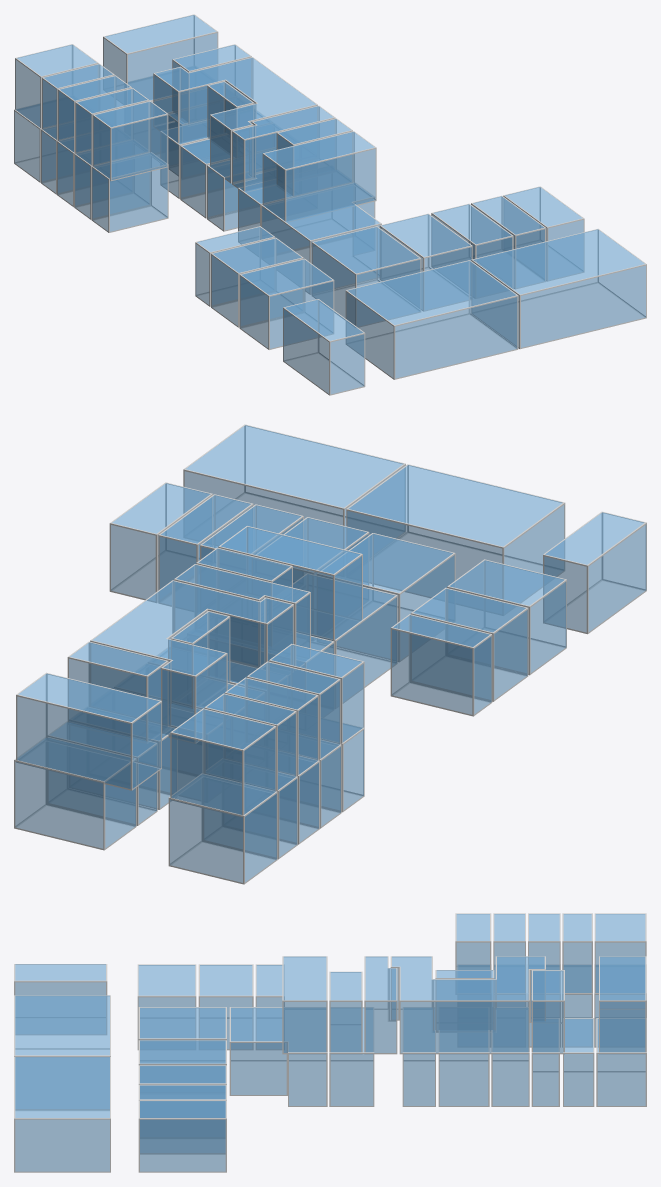
The model's file is Hospital_Selection_Boxes_wth_contour.glb.
3 renders of one model, top to bottom at view 1: azimuth 30°, elevation 25°; view 2: azimuth 150°, elevation 25°; view 3: azimuth 270°, elevation 25°, orthographic. The views are drawn at different scales.
Parts seen in each view (by area): view 1: Room_1, Room_Registry, Room_30, Room_10, Room_8, Room_33, Room_6, Room_28, Room_7, Room_Pharmacy, Room_5, Room_22 (+23 smaller); view 2: Room_Registry, Room_30, Room_1, Room_28, Room_17, Room_7, Room_18, Room_Pharmacy, Room_8, Room_6, Room_27, Room_33 (+22 smaller); view 3: Room_30, Room_1, Room_Registry, Room_10, Room_Pharmacy, Room_2, Room_3, Room_8, Room_28, Room_33, Room_17, Room_11 (+23 smaller).
Boxes of the visible parts, x1,y1,x2,y2 form: Room_1: [471, 228, 646, 349]; Room_Registry: [345, 260, 518, 379]; Room_30: [153, 57, 317, 183]; Room_10: [261, 182, 381, 294]; Room_8: [311, 226, 421, 327]; Room_33: [262, 131, 376, 222]; Room_6: [239, 258, 334, 349]; Room_28: [103, 14, 218, 103]; Room_7: [211, 237, 303, 327]; Room_Pharmacy: [283, 299, 365, 395]; Room_5: [379, 213, 472, 311]; Room_22: [91, 152, 168, 232]; Room_Registry: [346, 464, 565, 615]; Room_30: [90, 580, 293, 743]; Room_1: [183, 424, 405, 557]; Room_28: [16, 672, 161, 790]; Room_17: [14, 737, 136, 850]; Room_7: [410, 587, 528, 701]; Room_18: [168, 773, 277, 884]; Room_Pharmacy: [543, 511, 646, 634]; Room_8: [317, 533, 455, 661]; Room_6: [447, 559, 566, 675]; Room_27: [170, 708, 276, 817]; Room_33: [218, 526, 362, 641]; Room_30: [390, 956, 545, 1054]; Room_1: [14, 1056, 110, 1172]; Room_Registry: [14, 995, 110, 1109]; Room_10: [229, 1007, 327, 1106]; Room_Pharmacy: [14, 964, 107, 1034]; Room_2: [138, 1100, 226, 1172]; Room_3: [138, 1084, 226, 1152]; Room_8: [138, 1007, 226, 1063]; Room_28: [599, 956, 646, 1052]; Room_33: [282, 956, 327, 1054]; Room_17: [596, 1018, 646, 1106]; Room_11: [329, 1007, 374, 1106].
Bounding box in the file's own units: 20.17 × 6.42 × 34.87.
